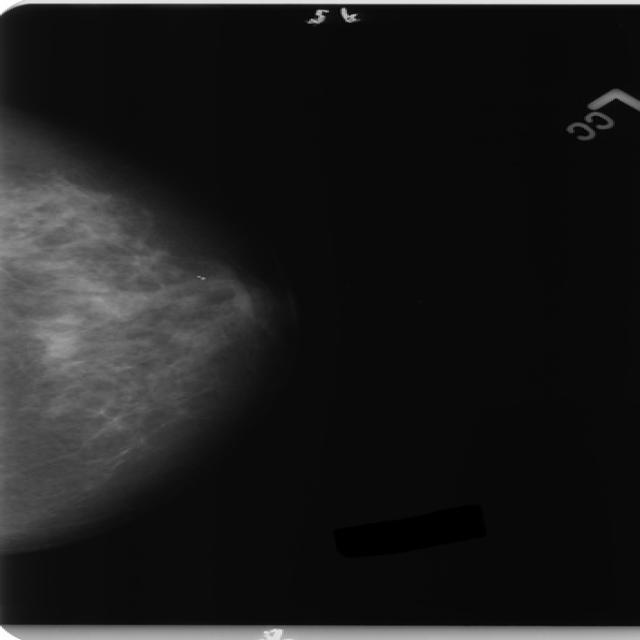tumour: (43, 334, 78, 358)
